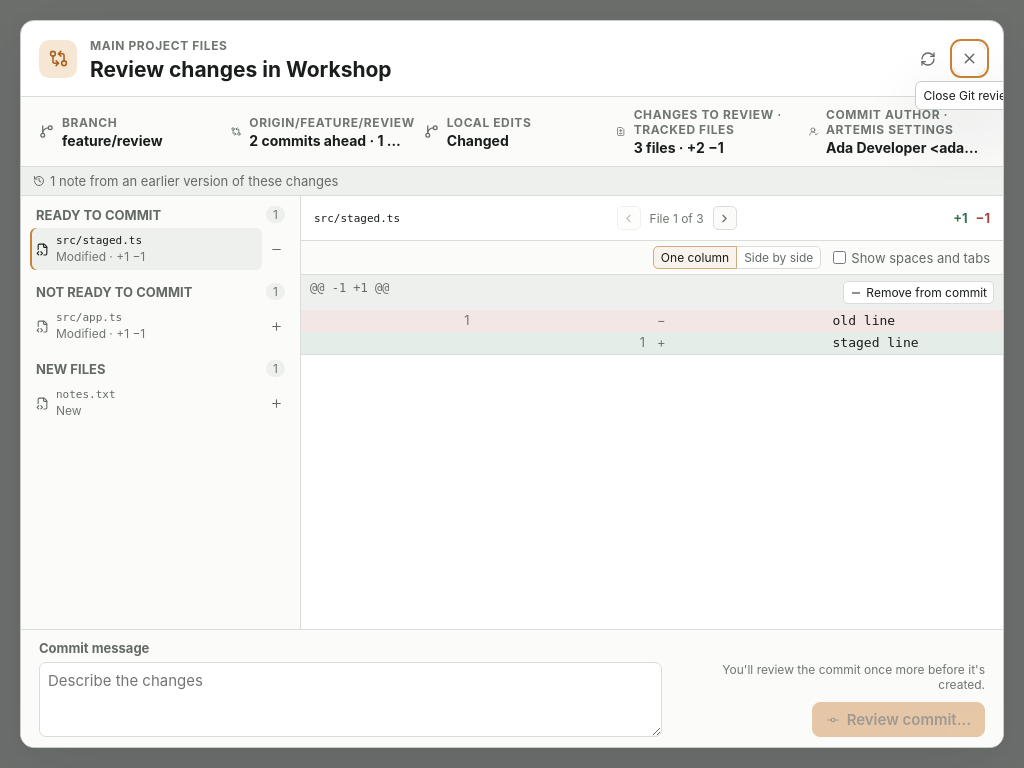
Scenario: GitReviewDialog › keeps feedback for disappeared files reachable at the dialog level
The image size is (1024, 768).
Click the heading "1 note from an earlier version of these changes" at (186, 181), box [33,173,338,189]
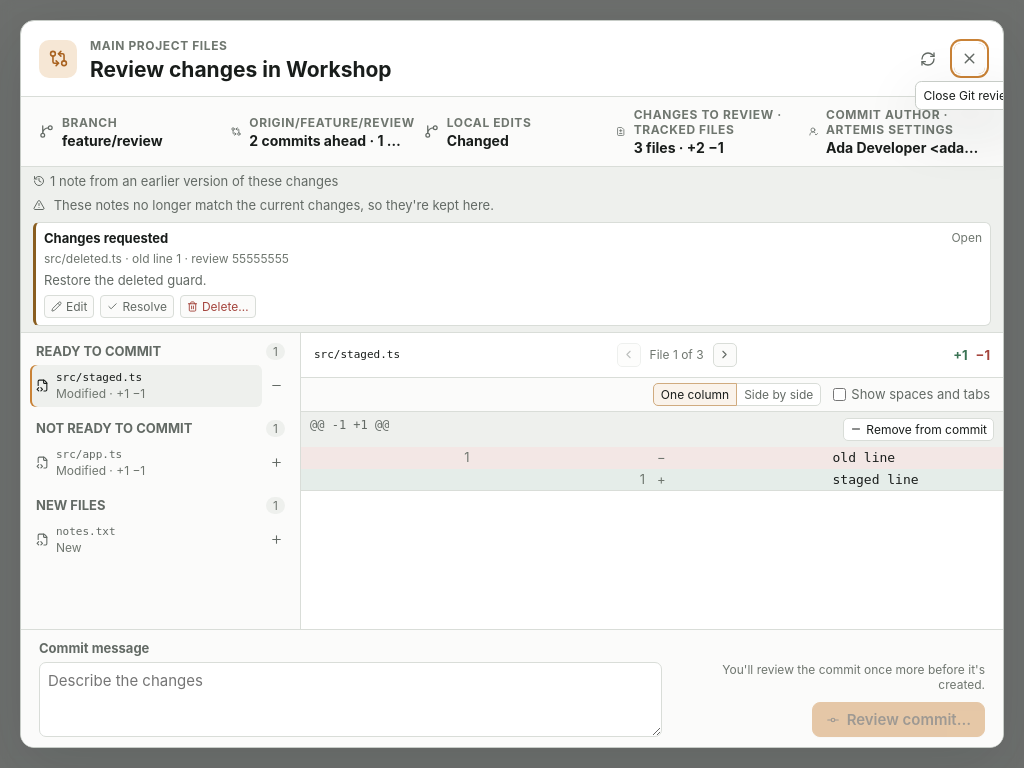
Now the text "src/deleted.ts · old line 1 · review 55555555" is shown, box [44,251,289,266]
Now the text "Restore the deleted guard." is shown, box [44,272,207,288]
